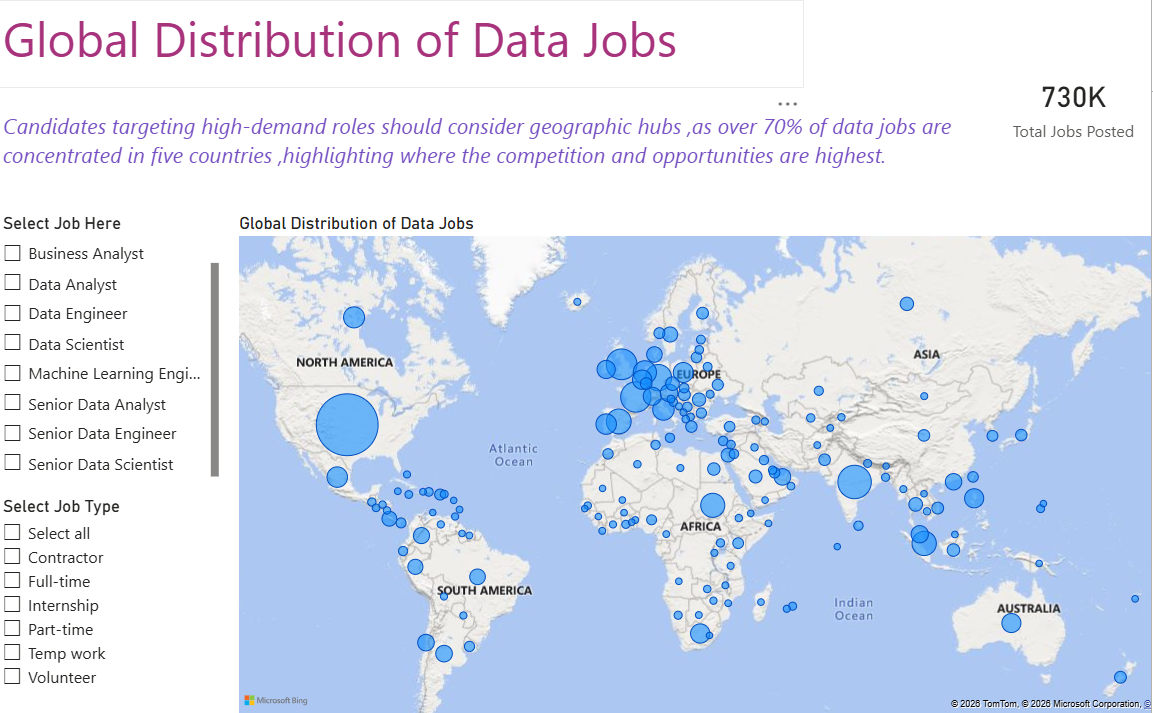

What the dashboard file says about the page in this screenshot:
{"tool":"powerbi","page":{"name":"global data job distributions ","canvas":[1280,720],"ordinal":0},"visuals":[{"type":"map","title":"Global Distribution of Data Jobs","fields":{"Category":["public bi_data_job_location.job_country"],"Size":["Sum(public bi_data_job_location.job_count)"]},"box":[236,212.7,1044.3,507.7],"z":0},{"type":"listSlicer","fields":{"Values":["public bi_data_job_location.job_title_short"]},"box":[0,212.7,226.4,274.4],"z":1000},{"type":"listSlicer","fields":{"Values":["public bi_data_job_location.job_schedule_type"]},"box":[0,496.7,226.4,223.7],"z":2000},{"type":"card","fields":{"Values":["Sum(public bi_data_job_location.job_count)"]},"box":[957.5,0,236.2,212.5],"z":3000},{"type":"textbox","box":[0,0,806.2,88.8],"z":4000},{"type":"textbox","box":[0,105.7,979.8,96.1],"z":5000}]}

Visuals, with their boxes on the page's 1280x720 design canvas (x1, y1, x2, y2). These are canvas units, not pixel positions in the 1153x713 screenshot, which may show the page scaled, cropped or inside an application window:
"Global Distribution of Data Jobs" map: l=236, t=213, r=1280, b=720
listSlicer - public bi_data_job_location.job_title_short: l=0, t=213, r=226, b=487
listSlicer - public bi_data_job_location.job_schedule_type: l=0, t=497, r=226, b=720
card - Sum(public bi_data_job_location.job_count): l=958, t=0, r=1194, b=212
textbox: l=0, t=0, r=806, b=89
textbox: l=0, t=106, r=980, b=202
